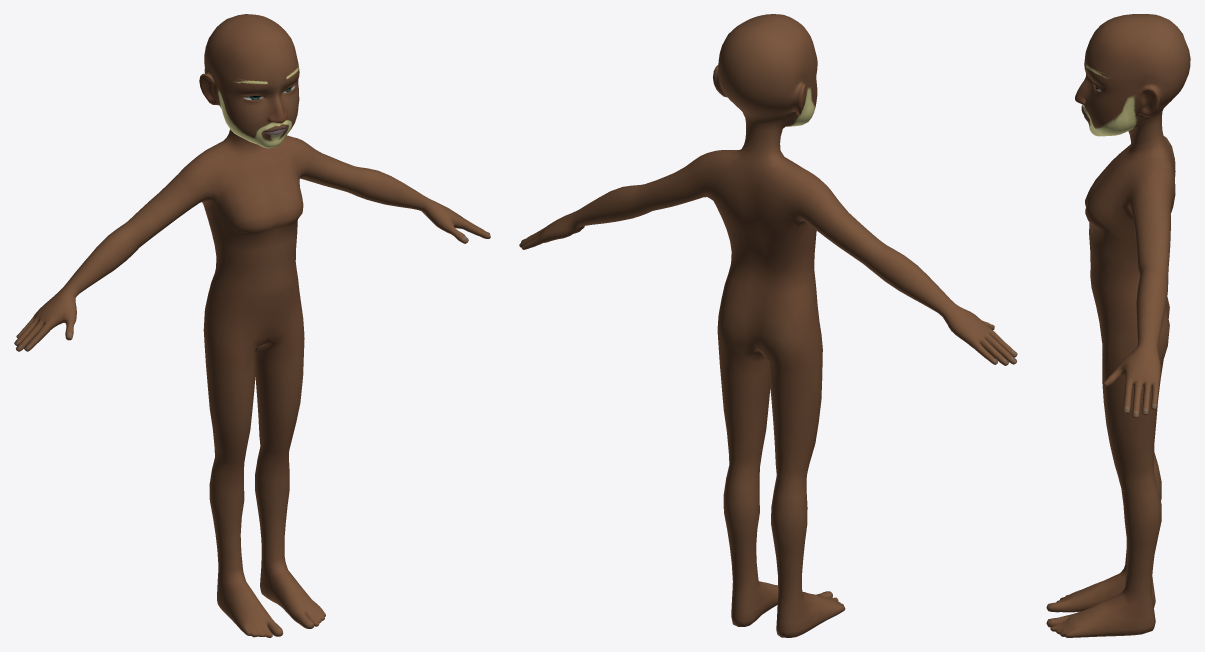
File: frame_0038.glb
3 views of the same model, side by side, from view 1: azimuth 30°, elevation 25°; view 2: azimuth 150°, elevation 25°; view 3: azimuth 270°, elevation 25° (orthographic). The views are drawn at different scales.
Parts seen in each view (by area): view 1: frame_0038_head_geo; view 2: frame_0038_head_geo; view 3: frame_0038_head_geo.
Part boxes in pixels (<box>): frame_0038_head_geo: <box>14,14,490,637</box>; frame_0038_head_geo: <box>519,14,1017,637</box>; frame_0038_head_geo: <box>1046,14,1190,637</box>.
Bounding box in the file's own units: 1.28 × 1.5 × 0.3253.
Materials: 3 (3 with a texture image).
